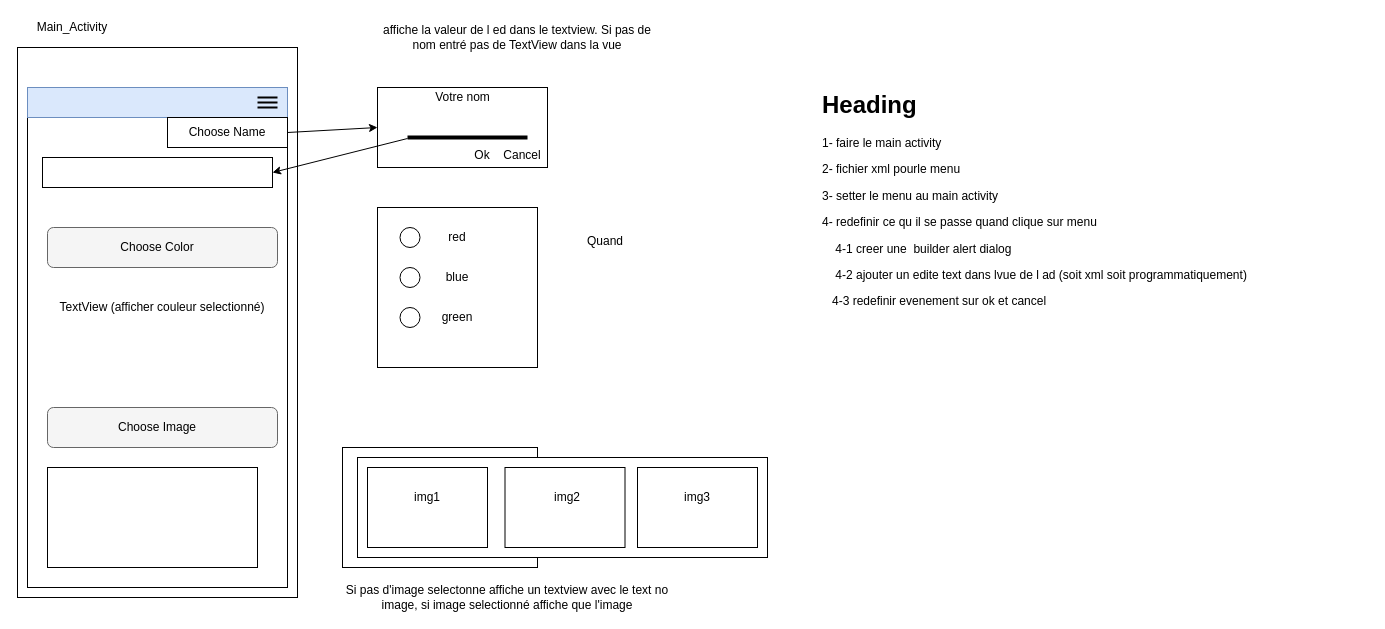
Some shapes in this 1385 by 629 pixel diagram are drawn without their labels. Each missing label, with the centre of its shape:
Exo Menu Dialog: point 157,102
Text View: point 157,172
TextView Ou Image Seletionnée: point 152,517
